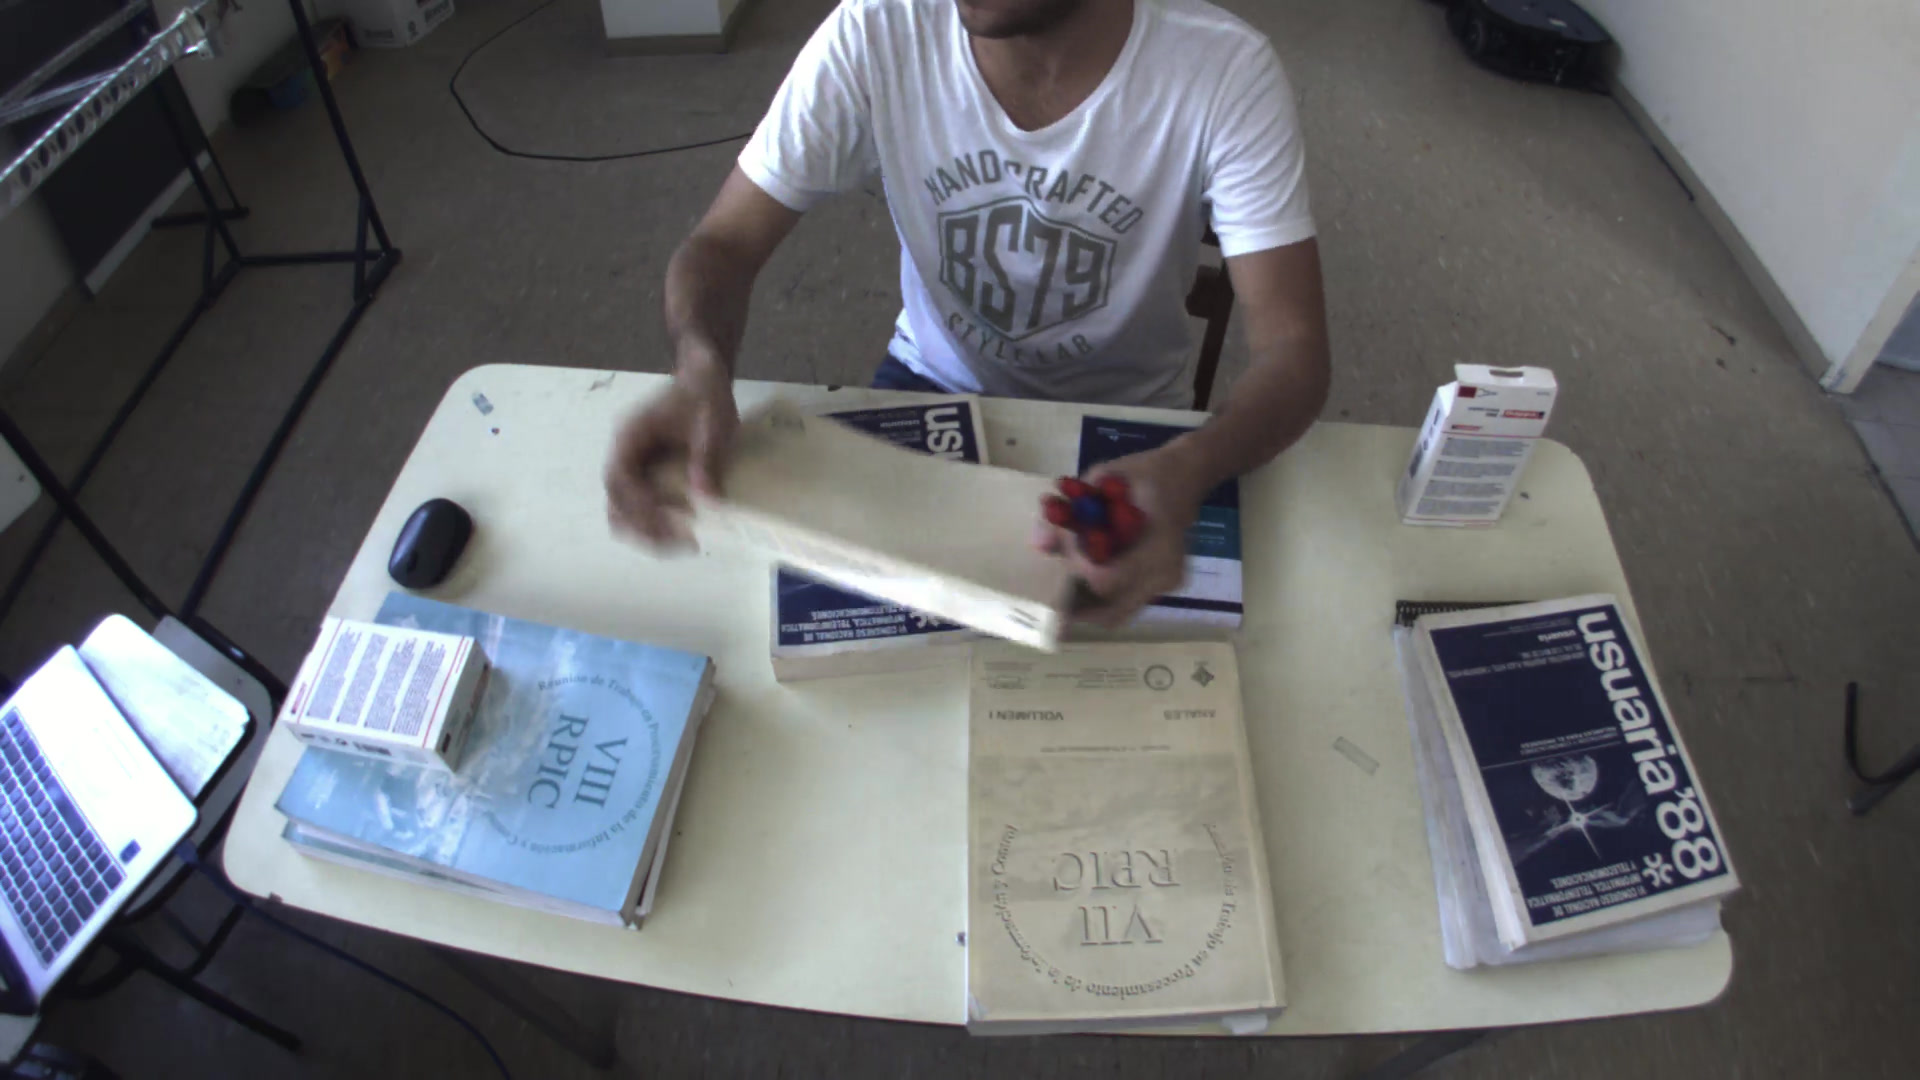hand: (1027, 459, 1197, 637), (589, 372, 727, 556)
